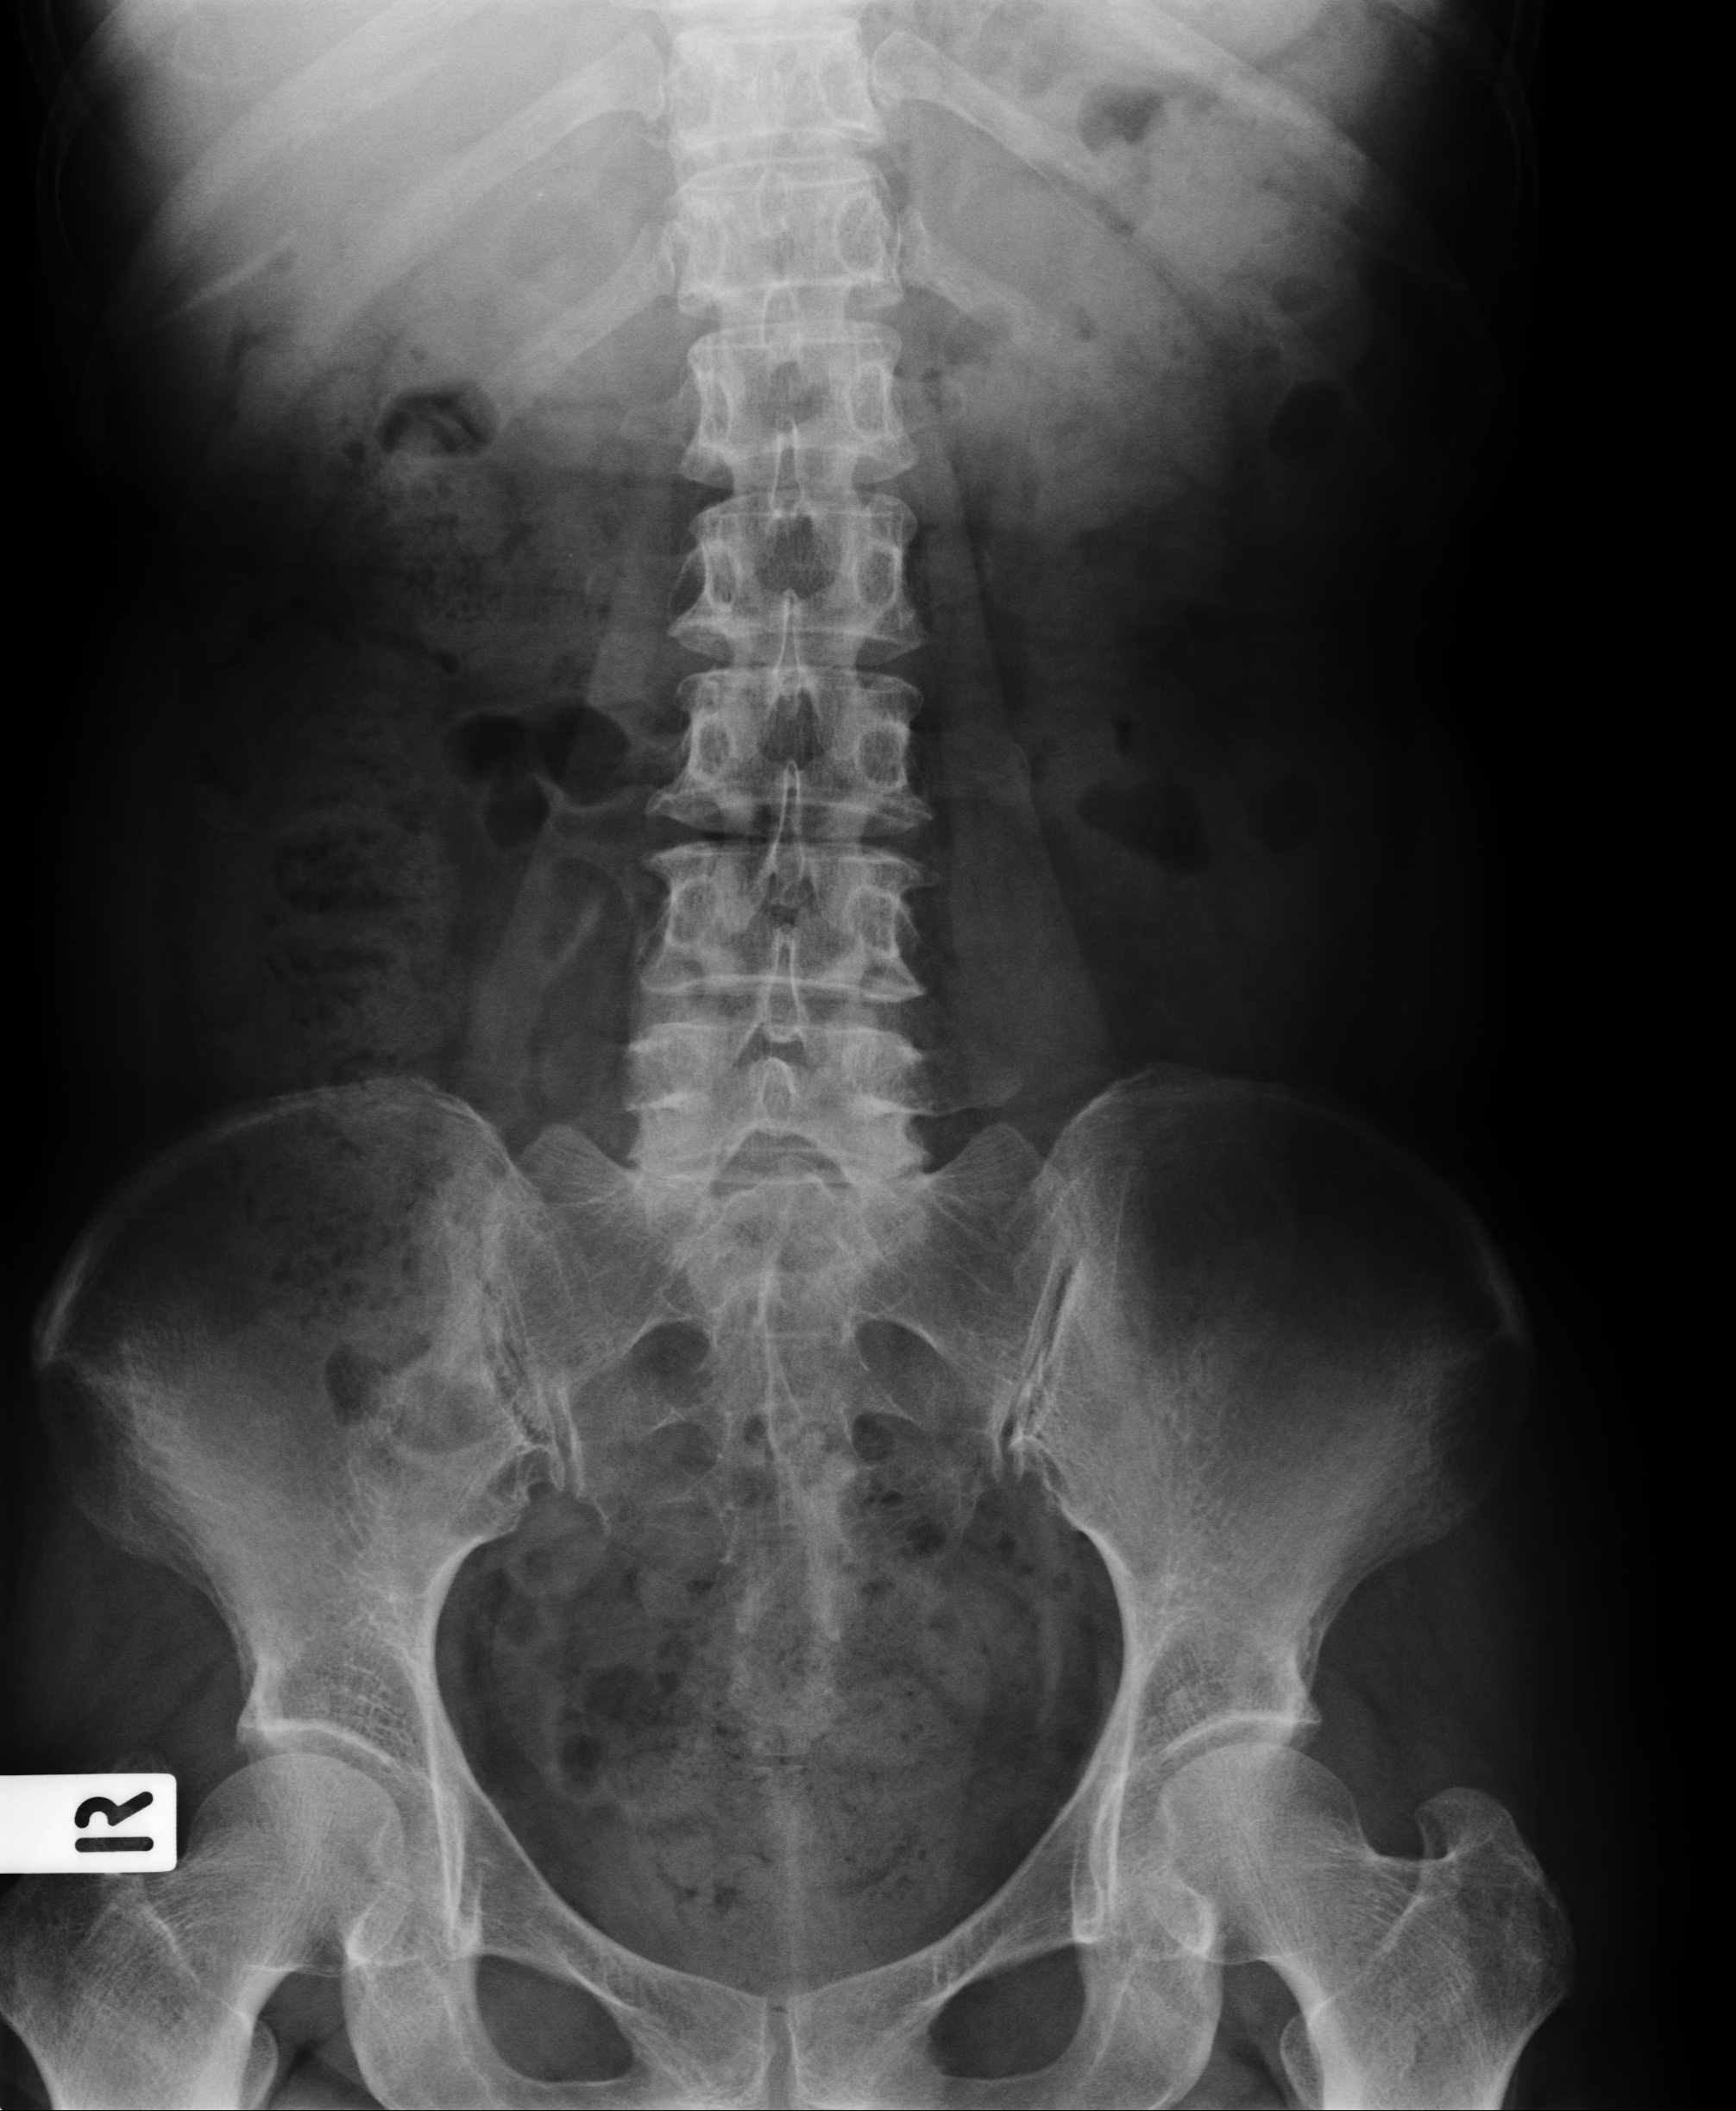lumbar scoliosis: (635, 47, 935, 1310)
